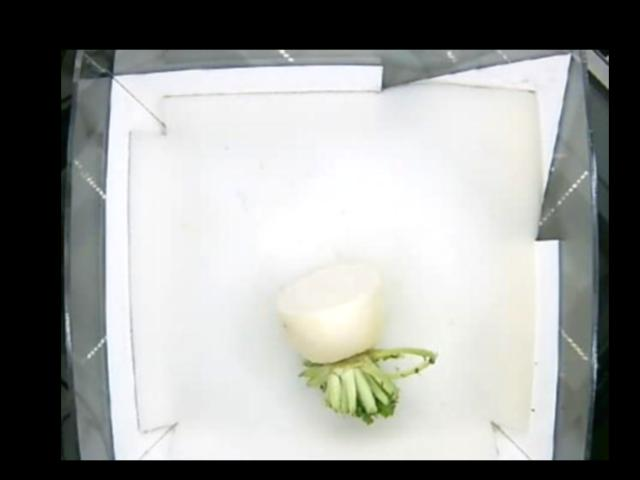Mooli: (277, 259, 429, 422)
